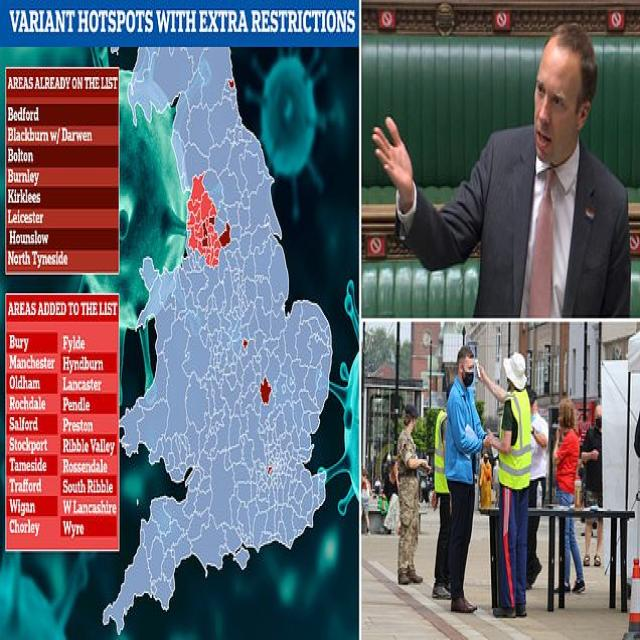Walking: (553, 397, 584, 594), (361, 469, 372, 533)
human: (371, 21, 631, 316), (479, 348, 532, 618), (511, 14, 605, 166), (444, 345, 492, 620), (395, 405, 430, 589), (433, 392, 455, 598), (527, 391, 549, 589), (578, 404, 604, 569), (384, 455, 401, 534)
loitering: (441, 345, 484, 615)
